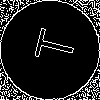T: (25, 25, 77, 66)
